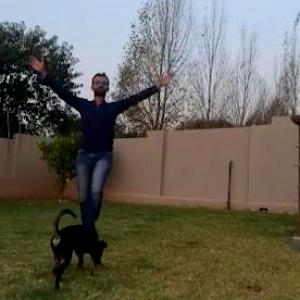takeoff: (0, 23, 176, 248)
